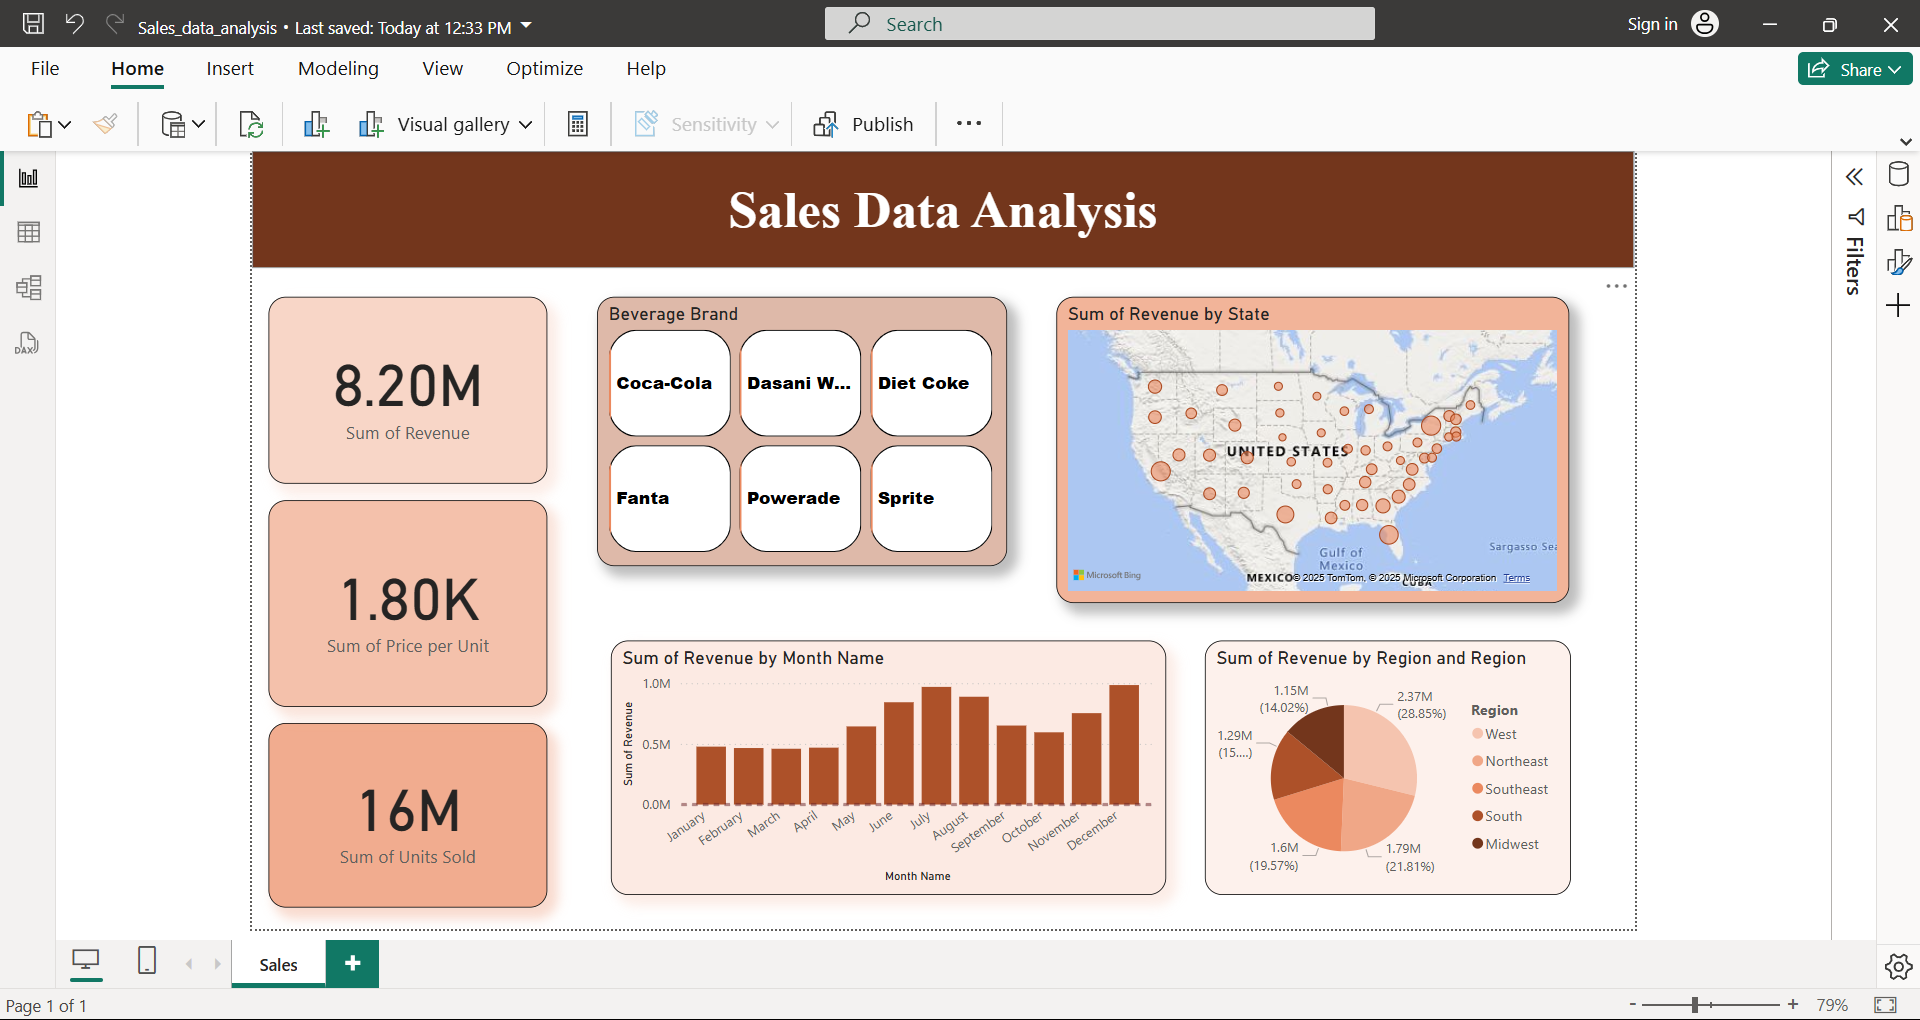

What the dashboard file says about the page in this screenshot:
{"tool":"powerbi","page":{"name":"Sales","canvas":[1280,720],"ordinal":0},"visuals":[{"type":"shape","box":[15.4,16.8,1247.2,92.2],"z":0},{"type":"card","fields":{"Values":["Sum(Data.Revenue)"]},"box":[15.3,135,258.4,173.1],"z":1000},{"type":"card","fields":{"Values":["Sum(Data.Units Sold)"]},"box":[15.3,529.6,258.4,170.6],"z":2000},{"type":"card","fields":{"Values":["Sum(Data.Price per Unit)"]},"box":[15.3,323.4,258.4,191],"z":3000},{"type":"columnChart","fields":{"Y":["Sum(Data.Revenue)"],"Category":["Data.Month Name"]},"box":[332.8,453.9,514.4,235.3],"z":4000},{"type":"map","fields":{"Category":["Data.State"],"Size":["Sum(Data.Revenue)"]},"box":[744.4,135.5,507,283.5],"z":5000},{"type":"advancedSlicerVisual","fields":{"Values":["Data.Beverage Brand"]},"box":[319.6,135,379.4,249.5],"z":6000},{"type":"pieChart","fields":{"Category":["Data.Region","Data.Region"],"Series":["Data.Region"],"Y":["Sum(Data.Revenue)"]},"box":[882.7,453.9,368.7,234.6],"z":7000}]}

Visuals, with their boxes on the page's 1280x720 design canvas (x1, y1, x2, y2). These are canvas units, not pixel positions in the 1920x1020 screenshot, which may show the page scaled, cropped or inside an application window:
shape: x1=15, y1=17, x2=1263, y2=109
card - Sum(Data.Revenue): x1=15, y1=135, x2=274, y2=308
card - Sum(Data.Units Sold): x1=15, y1=530, x2=274, y2=700
card - Sum(Data.Price per Unit): x1=15, y1=323, x2=274, y2=514
columnChart - Sum(Data.Revenue) x Data.Month Name: x1=333, y1=454, x2=847, y2=689
map - Data.State x Sum(Data.Revenue): x1=744, y1=136, x2=1251, y2=419
advancedSlicerVisual - Data.Beverage Brand: x1=320, y1=135, x2=699, y2=384
pieChart - Data.Region x Data.Region: x1=883, y1=454, x2=1251, y2=688
